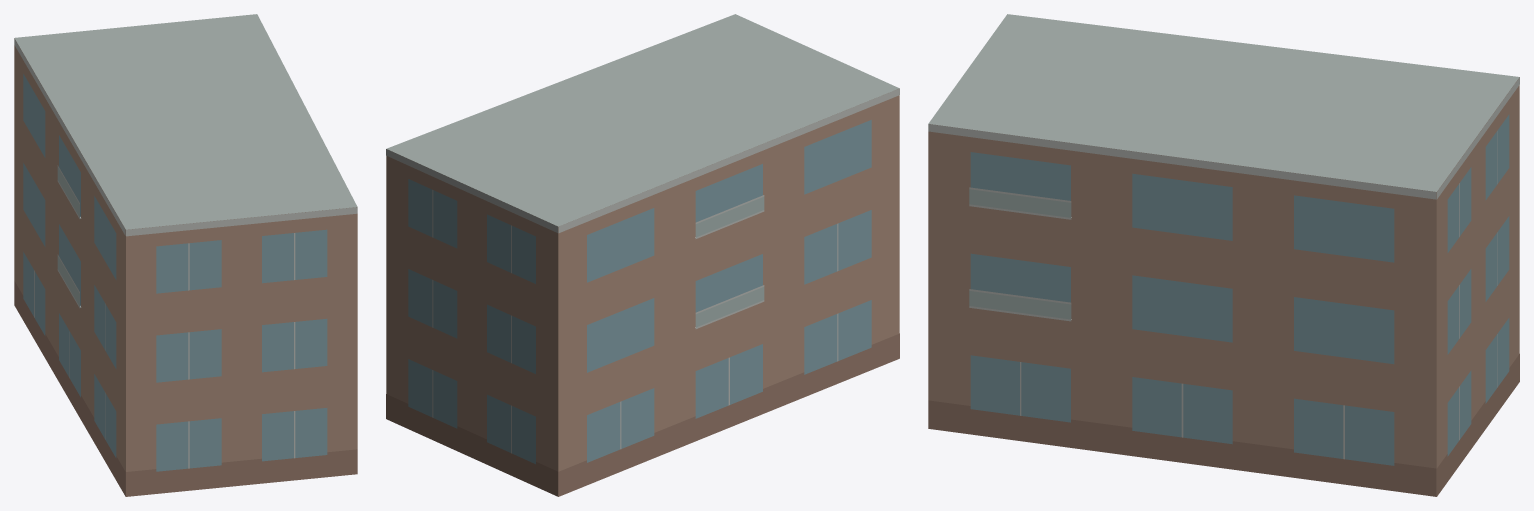
Rendered from survey-upis-32636357.glb.
3 renders of one model, left to right at view 1: azimuth 30°, elevation 25°; view 2: azimuth 150°, elevation 25°; view 3: azimuth 270°, elevation 25°, orthographic. The views are drawn at different scales.
Visible parts, largest first — view 1: survey-upis-32636357.tmp; view 2: survey-upis-32636357.tmp; view 3: survey-upis-32636357.tmp.
Part boxes in pixels (x1,y1,x2,y2): survey-upis-32636357.tmp: [14, 14, 357, 496]; survey-upis-32636357.tmp: [386, 14, 899, 496]; survey-upis-32636357.tmp: [928, 14, 1519, 496].
Size of the model in its own units: 12.15 by 9.7 by 17.06.
